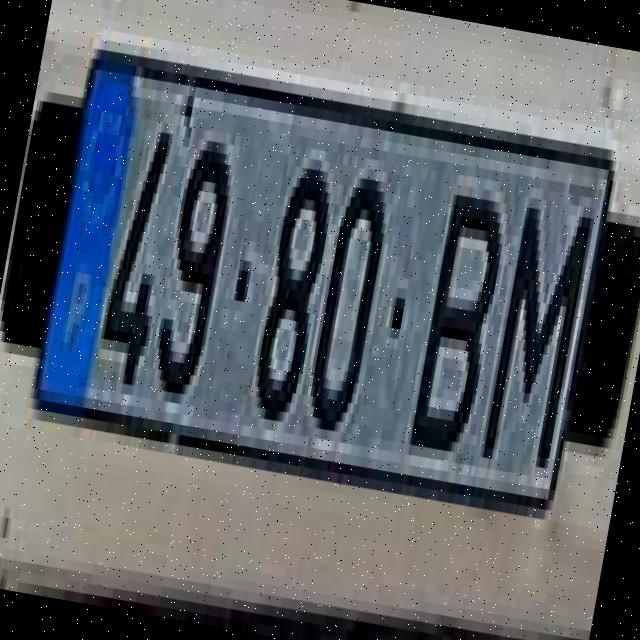EU: (33, 51, 614, 512)
Portugal: (28, 50, 144, 416)
